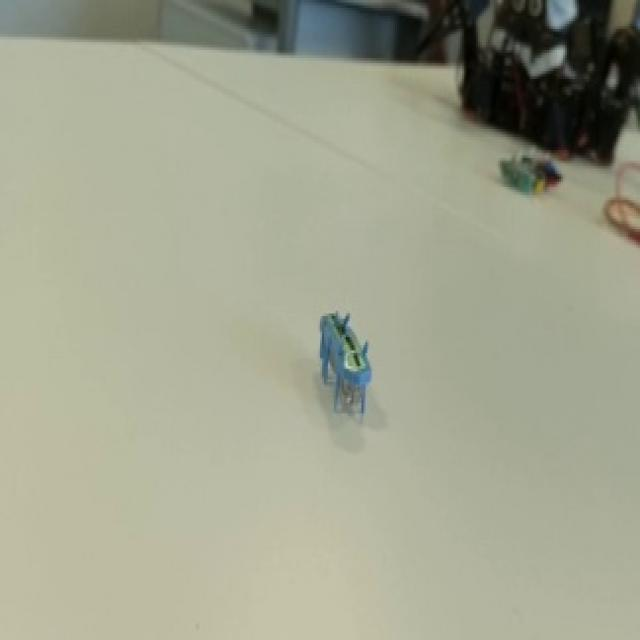3_NanoBug_Celeste: (298, 279, 400, 428)
